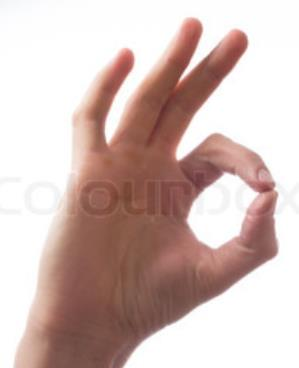left: (45, 14, 282, 349)
